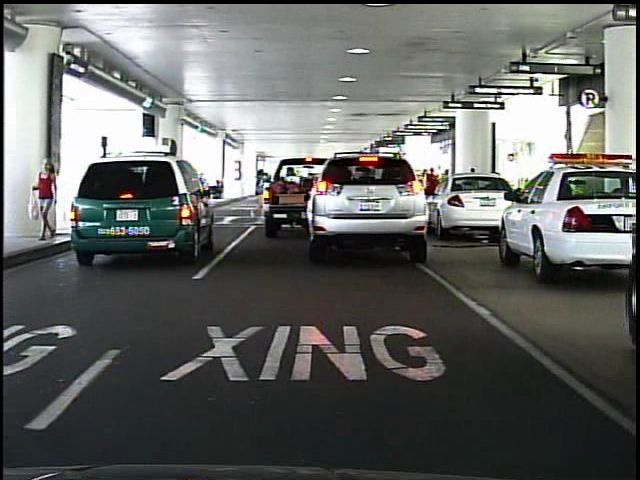person: (37, 152, 63, 244)
